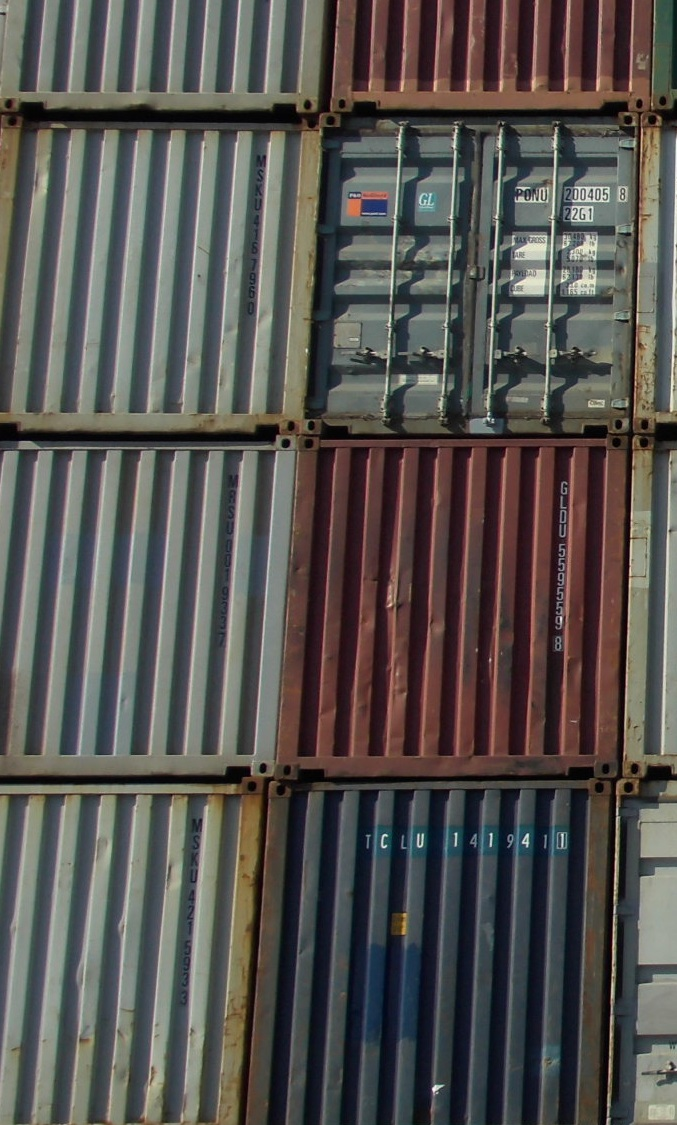container_door: (318, 118, 645, 432)
container_no_door: (246, 776, 619, 1122), (293, 432, 625, 779), (5, 119, 318, 432), (1, 436, 289, 773), (1, 776, 247, 1125), (326, 1, 647, 115), (1, 1, 321, 115)
